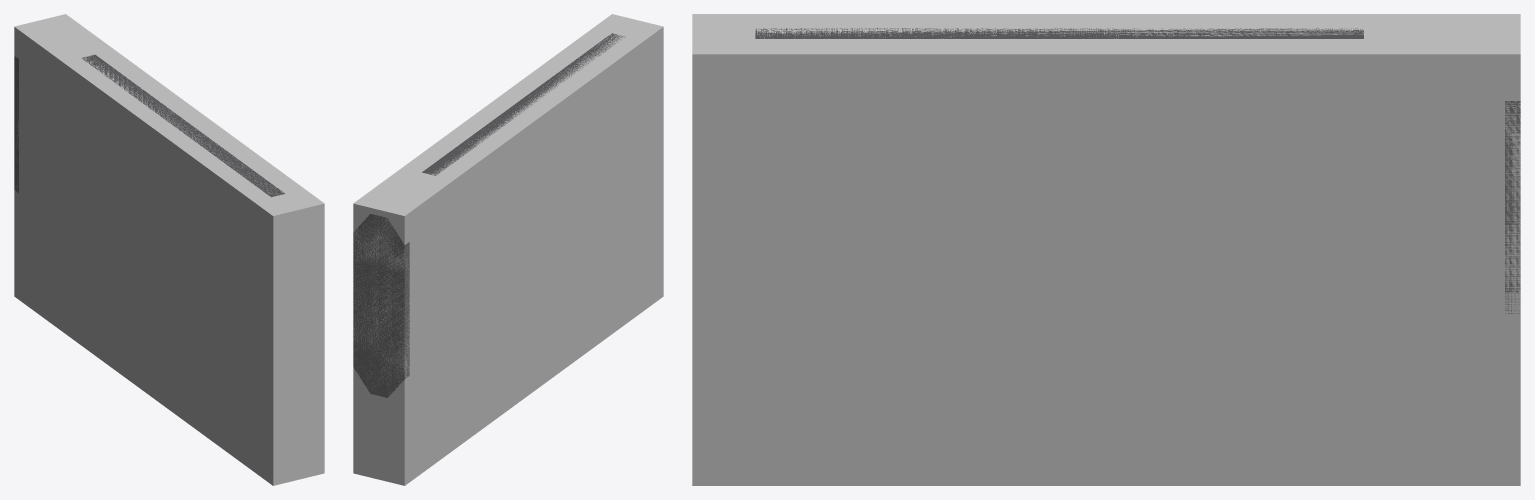
File: SM_Billboard_17.fbx
The picture shows the model from 3 angles, left to right: view 1: azimuth 30°, elevation 25°; view 2: azimuth 150°, elevation 25°; view 3: azimuth 270°, elevation 25°; orthographic projection. The views are drawn at different scales.
Visible parts, largest first — view 1: SM_Billboard_17_ConvexHulls, SM_Billboard_17; view 2: SM_Billboard_17_ConvexHulls, SM_Billboard_17; view 3: SM_Billboard_17_ConvexHulls, SM_Billboard_17.
Part boxes in pixels (x1=…): SM_Billboard_17_ConvexHulls: x1=14, y1=14, x2=324, y2=485; SM_Billboard_17: x1=14, y1=54, x2=284, y2=197; SM_Billboard_17_ConvexHulls: x1=353, y1=14, x2=663, y2=485; SM_Billboard_17: x1=353, y1=33, x2=625, y2=397; SM_Billboard_17_ConvexHulls: x1=692, y1=14, x2=1520, y2=485; SM_Billboard_17: x1=755, y1=28, x2=1520, y2=313.
Bounding box in the file's own units: 60 × 521 × 300.
